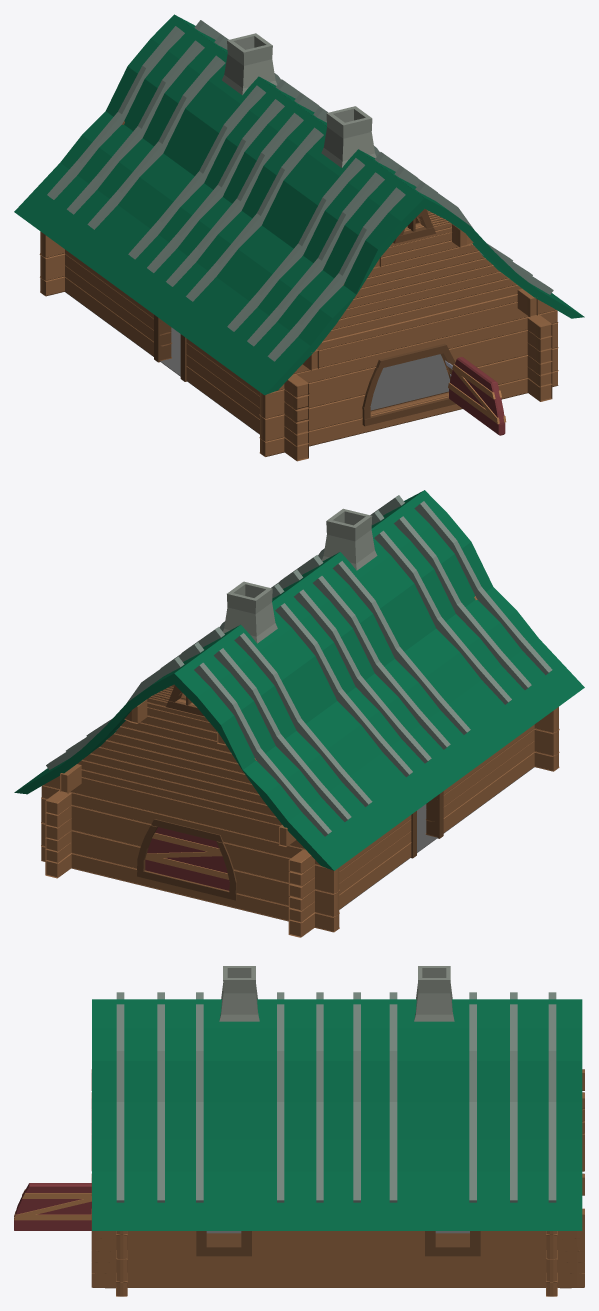
File: Shack 3.fbx
3 views of the same model, one above another, from view 1: azimuth 30°, elevation 25°; view 2: azimuth 150°, elevation 25°; view 3: azimuth 270°, elevation 25° (orthographic). The views are drawn at different scales.
Visible parts, largest first — view 1: Cube; view 2: Cube; view 3: Cube.
Part boxes in pixels (<box>): Cube: <box>14,14,584,461</box>; Cube: <box>14,490,584,937</box>; Cube: <box>14,966,584,1296</box>.
Bounding box in the file's own units: 1084 × 841 × 1709.
